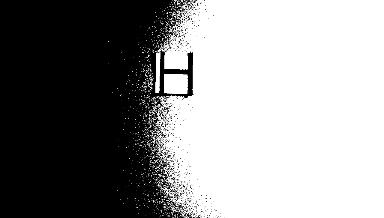H: (154, 51, 197, 94)
